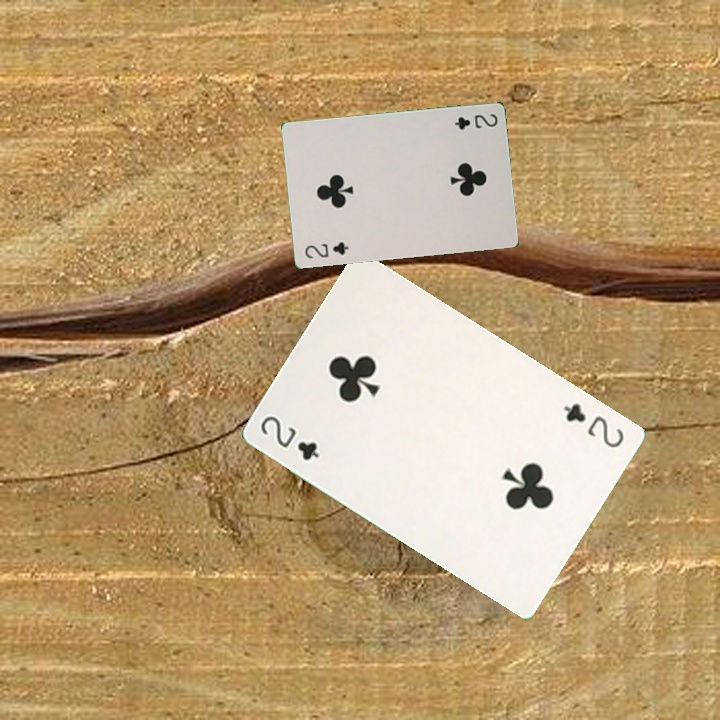2c: (559, 399, 627, 451), (256, 411, 322, 463), (301, 238, 351, 261), (450, 109, 500, 132)
